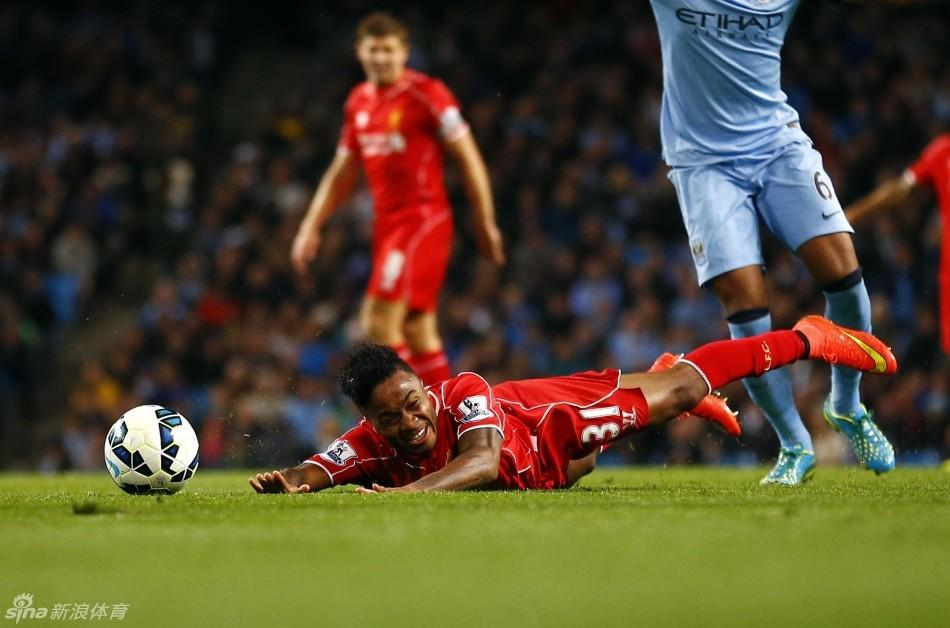down: (249, 313, 900, 489)
up: (645, 1, 912, 489), (314, 17, 480, 347)
